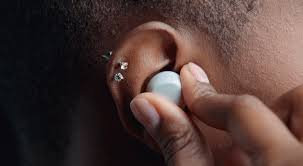earphone: (105, 21, 201, 153)
